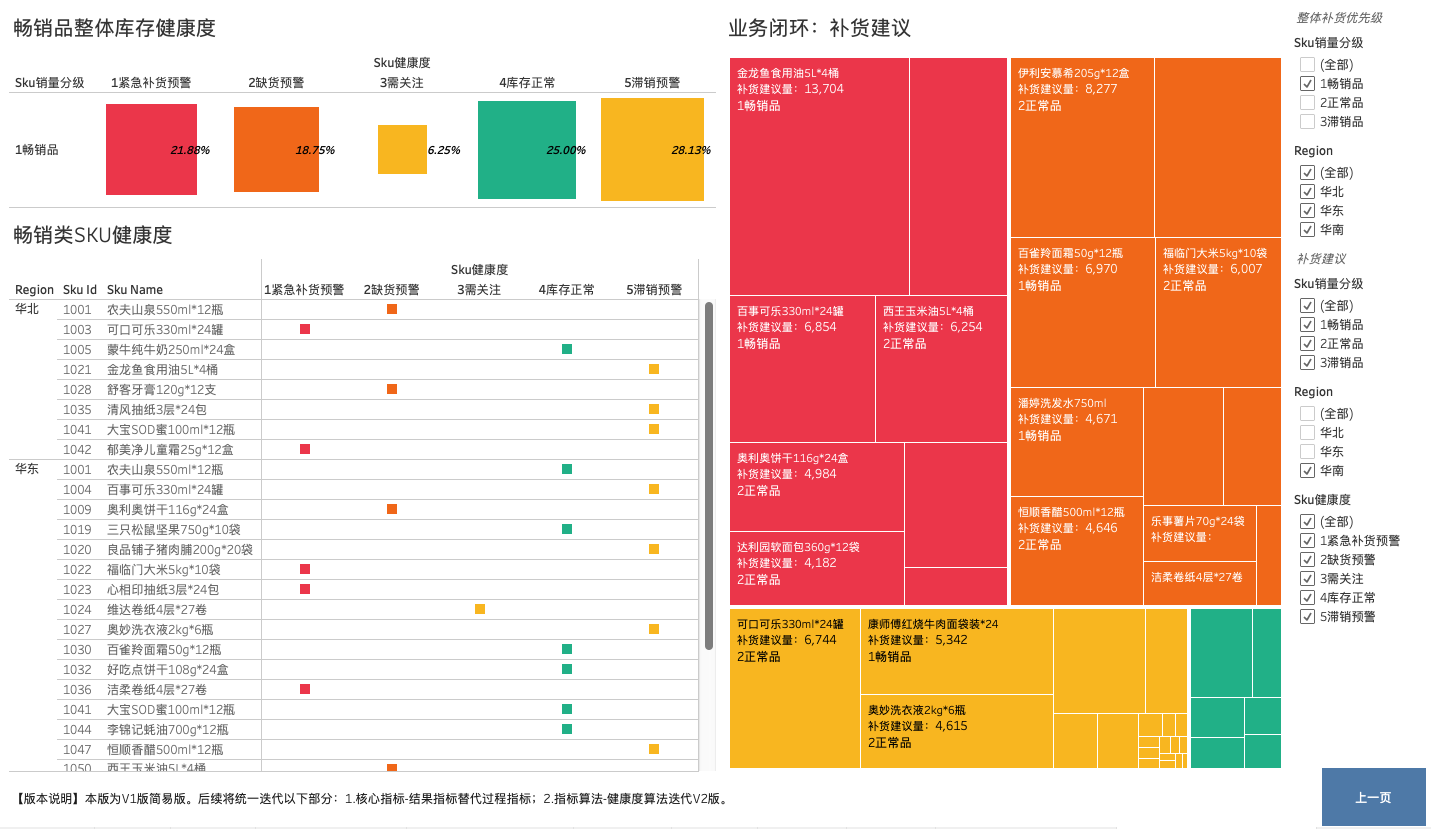

The page's visual inventory and layout, read from the dashboard file:
{"tool":"tableau","page":{"name":"仪表板 2-SKU健康度&补货建议","canvas":[1000,1000],"units":"permille","ordinal":1},"visuals":[{"type":"worksheet","title":"3.品类健康度-热力矩阵图","mark":"Automatic","rows":["SKU销量分级"],"cols":["SKU健康度"],"box":[6.5,12.7,410.1,248.2]},{"type":"worksheet","title":"6.补货建议V2","mark":"Automatic","box":[416.6,12.7,463.8,923.8]},{"type":"text","box":[880.4,12.7,113.1,39.7]},{"type":"filter","title":"3.品类健康度-热力矩阵图","param":"[federated.1huelxk1otaock181afyk0m04uq1].[none:SKU销量分级:nk]","box":[880.4,52.4,113.1,168.9]},{"type":"filter","title":"5.SKU健康度","param":"[federated.1huelxk1otaock181afyk0m04uq1].[none:region:nk]","box":[880.4,221.3,113.1,168.9]},{"type":"worksheet","title":"5.SKU健康度","mark":"Automatic","rows":["region","sku_id","sku_name"],"cols":["SKU健康度"],"box":[6.5,260.9,410.1,675.6]},{"type":"text","box":[880.4,390.2,113.1,39.7]},{"type":"filter","title":"6.补货建议V2","param":"[federated.1huelxk1otaock181afyk0m04uq1].[none:SKU销量分级:nk]","box":[880.4,429.8,113.1,168.9]},{"type":"filter","title":"6.补货建议V2","param":"[federated.1huelxk1otaock181afyk0m04uq1].[none:region:nk]","box":[880.4,598.7,113.1,168.9]},{"type":"filter","title":"6.补货建议V2","param":"[federated.1huelxk1otaock181afyk0m04uq1].[none:SKU健康度:nk]","box":[880.4,767.6,113.1,168.9]},{"type":"dashboard-object","box":[920.3,928.6,72.4,69.8]},{"type":"text","box":[6.5,936.5,987,50.8]}]}

Visuals, with their boxes on the dashboard's canvas, which has no fixed pixel size, in thousandths of its width and height (x1, y1, x2, y2). These are canvas units, not pixel positions in the 1431x829 screenshot, which may show the page scaled, cropped or inside an application window:
"3.品类健康度-热力矩阵图" worksheet: box(6, 13, 417, 261)
"6.补货建议V2" worksheet: box(417, 13, 880, 936)
text: box(880, 13, 994, 52)
"3.品类健康度-热力矩阵图" filter: box(880, 52, 994, 221)
"5.SKU健康度" filter: box(880, 221, 994, 390)
"5.SKU健康度" worksheet: box(6, 261, 417, 936)
text: box(880, 390, 994, 430)
"6.补货建议V2" filter: box(880, 430, 994, 599)
"6.补货建议V2" filter: box(880, 599, 994, 768)
"6.补货建议V2" filter: box(880, 768, 994, 936)
dashboard-object: box(920, 929, 993, 998)
text: box(6, 936, 994, 987)
